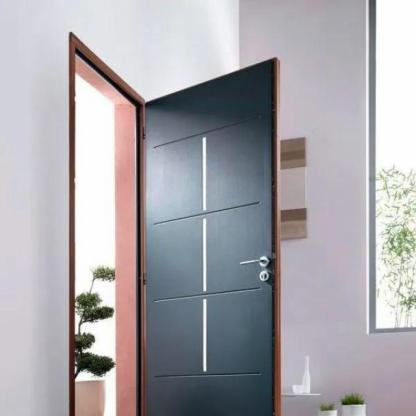door: (56, 25, 289, 414)
